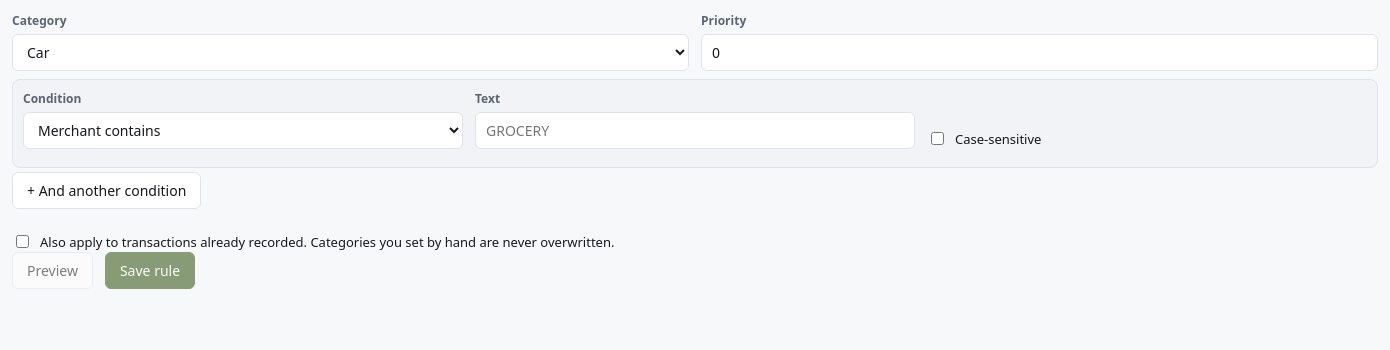
it: checking in the browser › reads "At least 0" as no minimum and says a range still needs a bound, under the field
Step 1. Select "Amount is in a range" in the dropdown labelled "Condition" → x=243, y=130, box [23, 112, 463, 149]
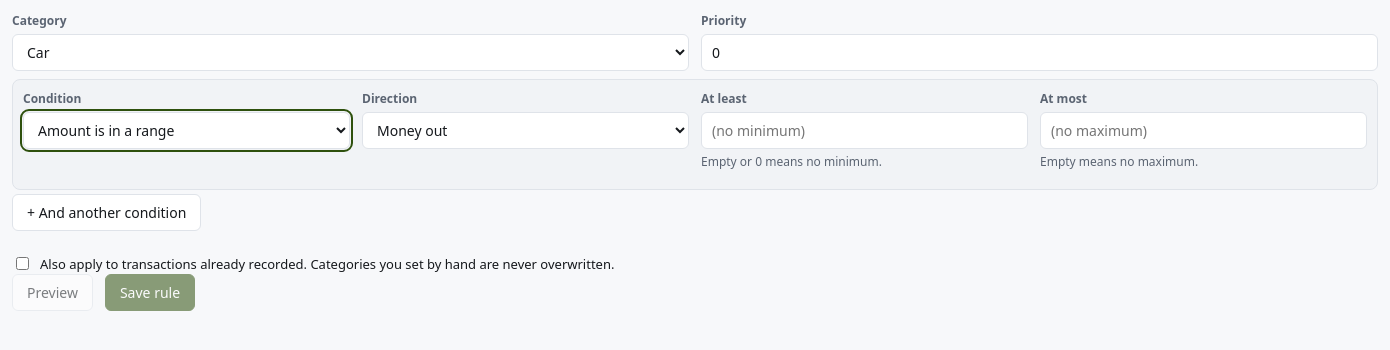
Step 2. Type "0" into the field labelled "At least" → x=864, y=130, box [701, 112, 1028, 149]
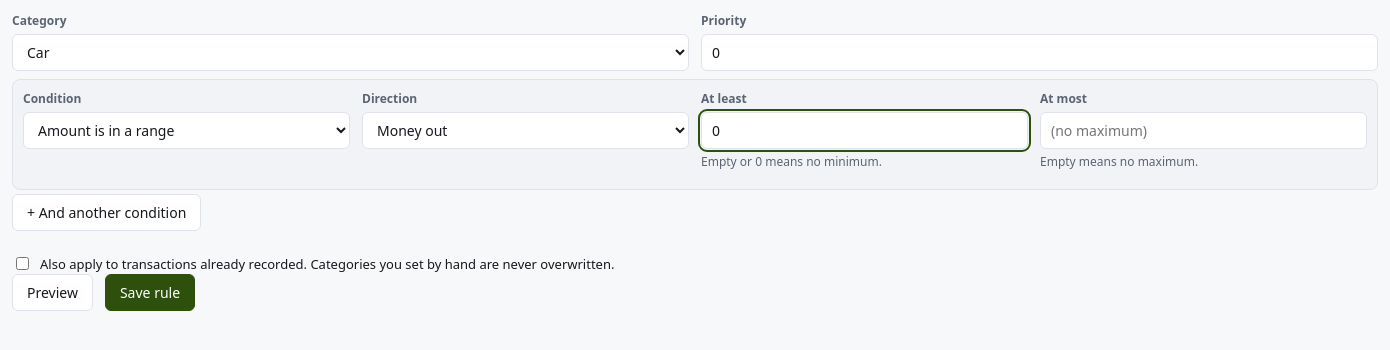
Step 3. Click the button "Save rule" → x=150, y=292, box [105, 274, 195, 311]
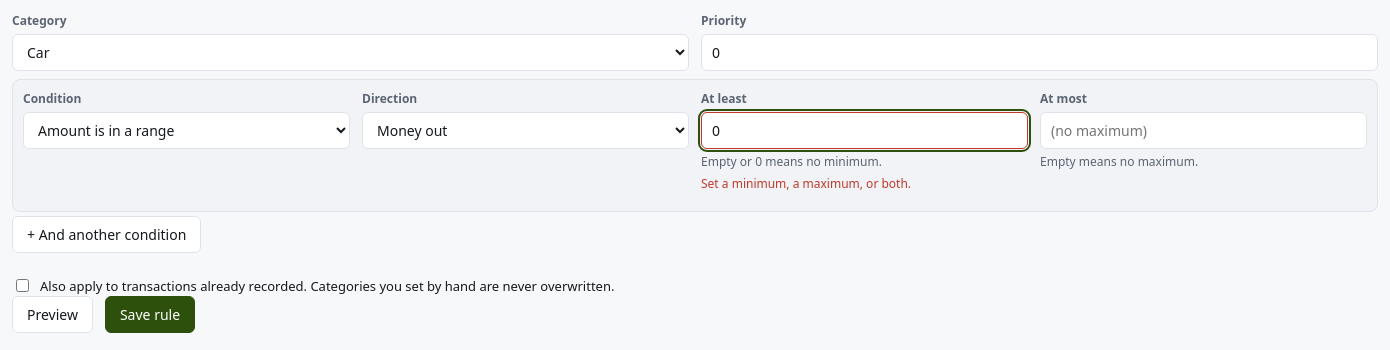
Now the text "Set a minimum, a maximum, or both." is shown, box [701, 175, 911, 192]
